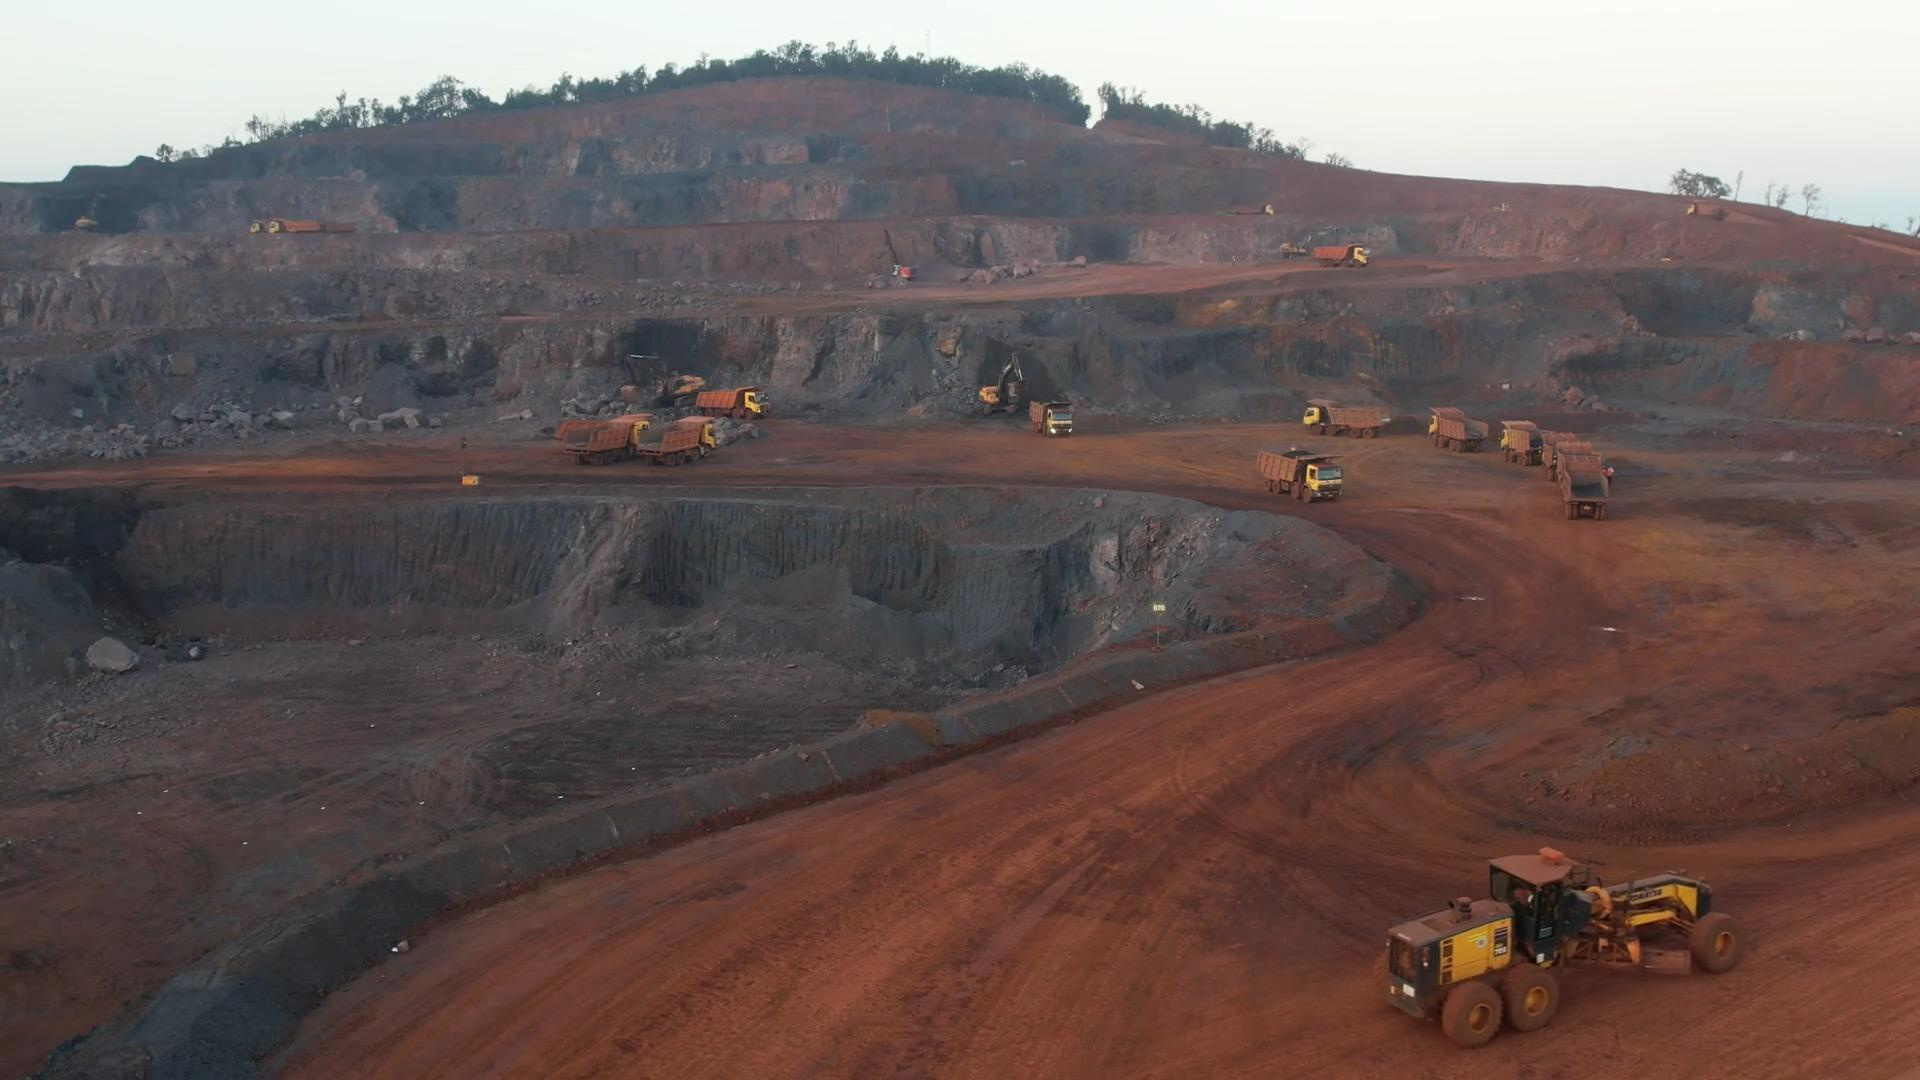excavator: (624, 354, 698, 406), (980, 354, 1028, 414)
